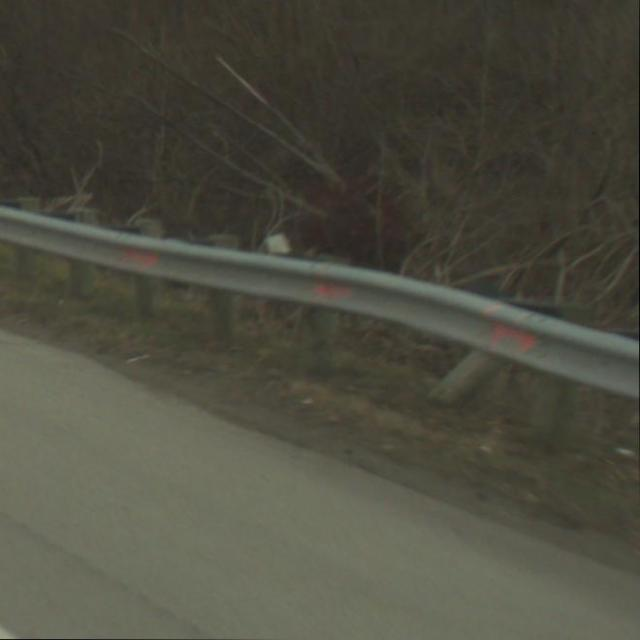Guard rail: (0, 192, 640, 465)
